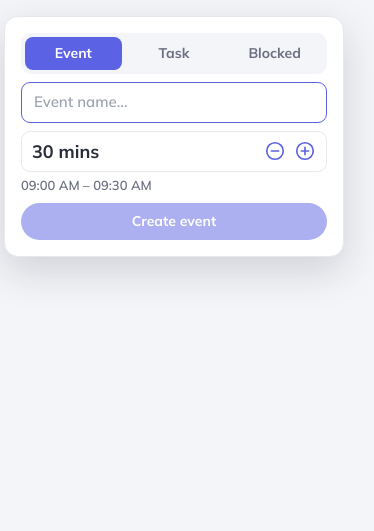
it: CreatePopover due-default: week-out rule › clicking today's column → due defaults to today+7d at 23:59
Click the button with test id "mode-task": click(174, 54) [126,37,222,70]
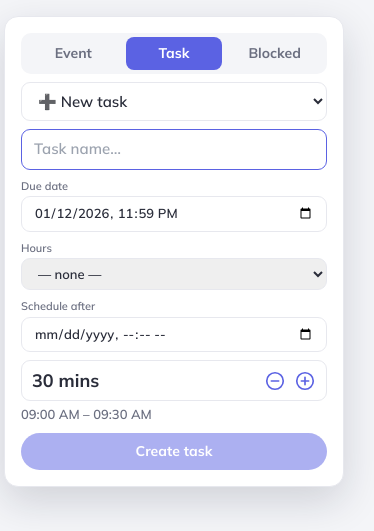
Result: the field with test id "create-due" holds "2026-01-12T23:59" at [21,196,327,232]
